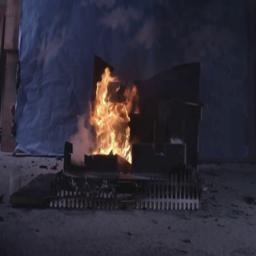fire: (82, 65, 140, 170)
